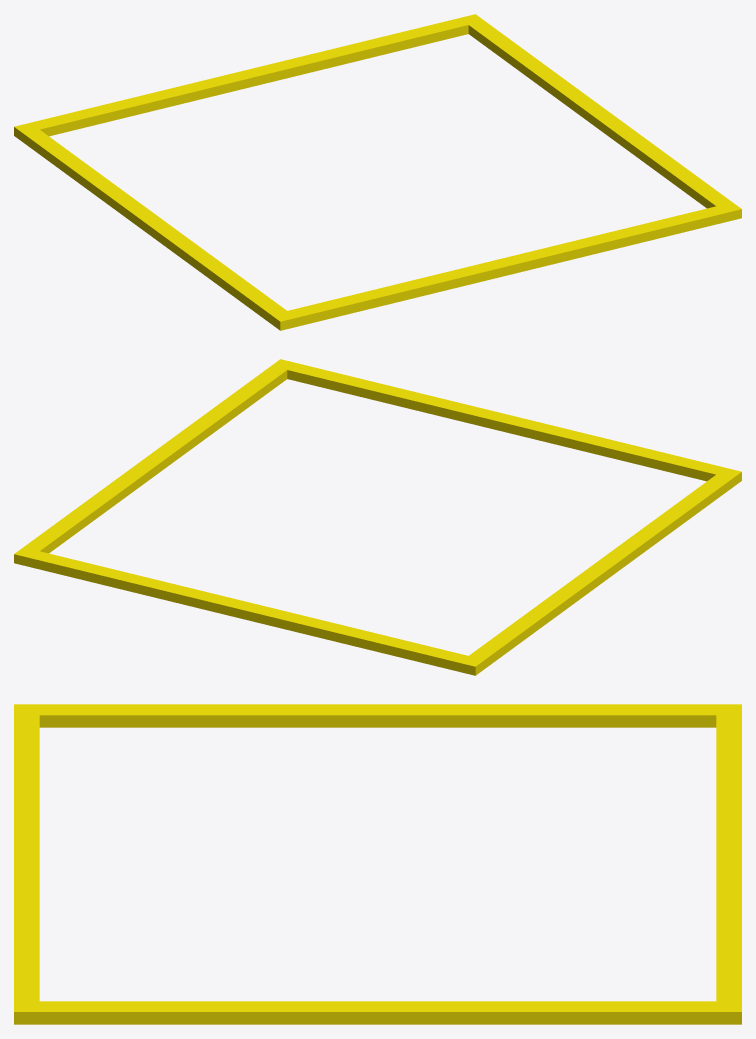
Rendered from frame-skin-1.glb.
The picture shows the model from 3 angles, top to bottom: view 1: azimuth 30°, elevation 25°; view 2: azimuth 150°, elevation 25°; view 3: azimuth 270°, elevation 25°; orthographic projection. The views are drawn at different scales.
Parts seen in each view (by area): view 1: frame-skin-1; view 2: frame-skin-1; view 3: frame-skin-1.
Boxes of the visible parts, x1,y1,x2,y2 form: frame-skin-1: (14, 14, 741, 330); frame-skin-1: (14, 359, 741, 675); frame-skin-1: (14, 704, 741, 1024).
Bounding box in the file's own units: 17 × 0.32 × 17.
Materials: 1 (1 with a texture image).
